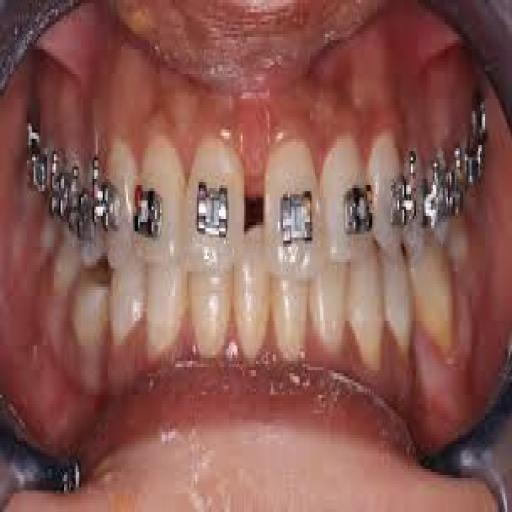correct_brace: (275, 184, 317, 251), (193, 177, 232, 246), (134, 178, 166, 247), (338, 182, 374, 240)
incorrect_brace: (132, 131, 185, 274), (320, 131, 372, 272)
